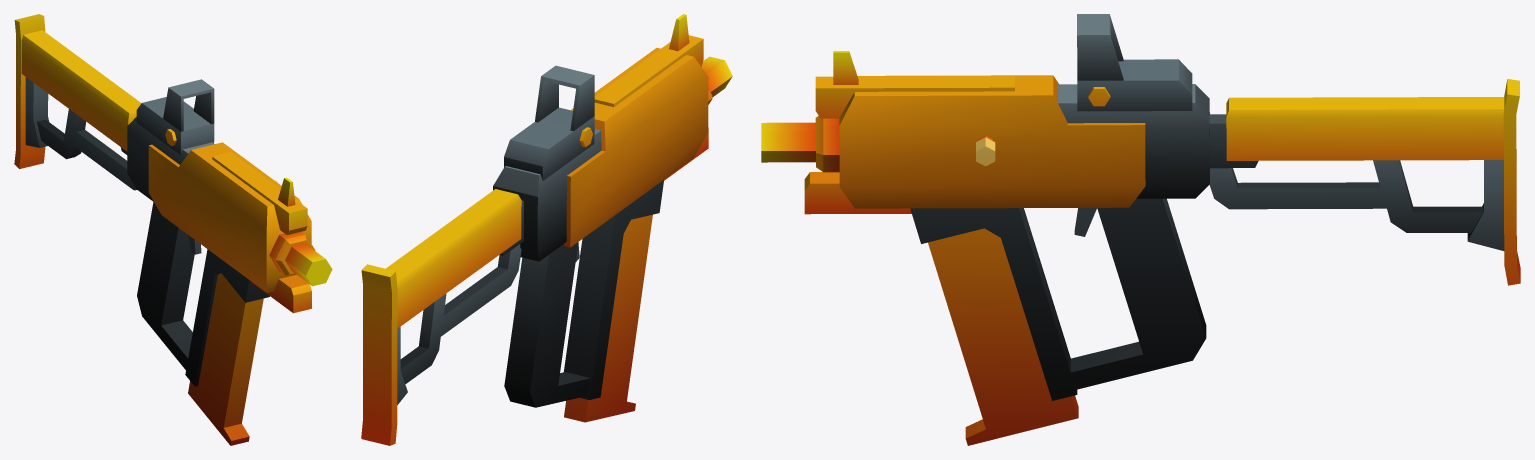
Rendered from Level3Gun.fbx.
The picture shows the model from 3 angles, left to right: view 1: azimuth 30°, elevation 25°; view 2: azimuth 150°, elevation 25°; view 3: azimuth 270°, elevation 25°; orthographic projection. The views are drawn at different scales.
Visible parts, largest first — view 1: Weapons_038; view 2: Weapons_038; view 3: Weapons_038.
Part boxes in pixels (x1,y1,x2,y2): Weapons_038: (14,14,332,445); Weapons_038: (361,14,732,445); Weapons_038: (761,14,1520,445).
Size of the model in its own units: 13.69 by 63.38 by 105.
1 material, 1 textured.
